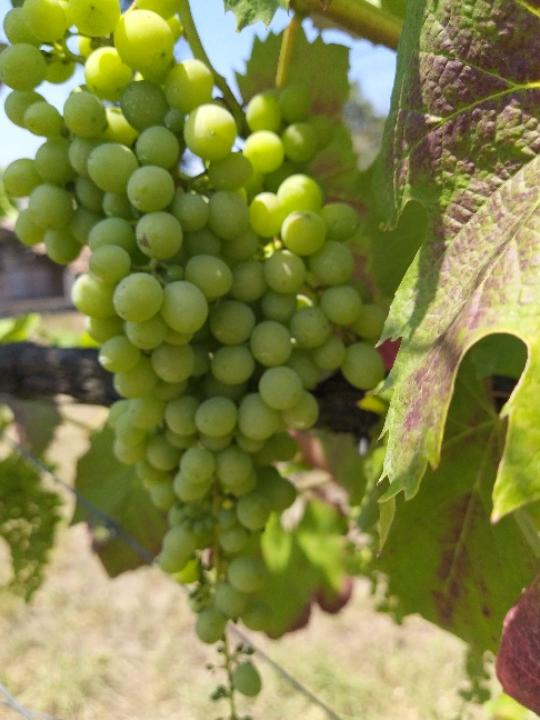grape: (0, 0, 382, 720)
